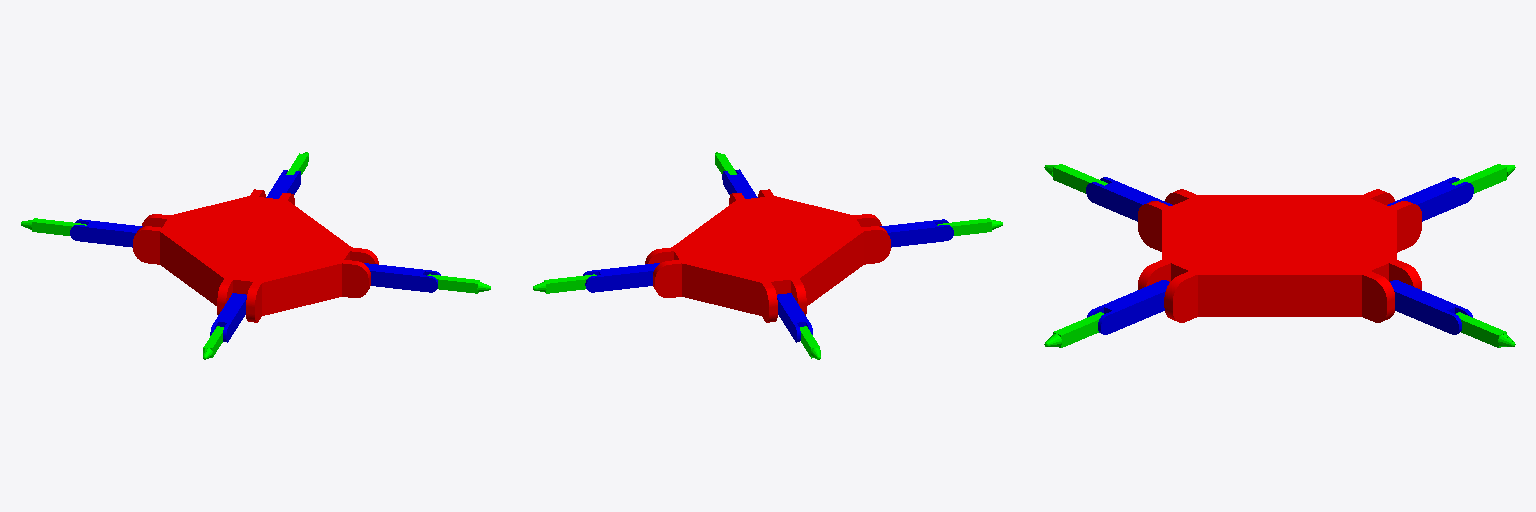
URDF robot description (spider):
<?xml version="1.0"?>

<robot name="spider">

    <link name="base">
        <inertial>
            <origin xyz="0.0 0.0 0.0" rpy="0.0 0.0 0.0"/>
            <mass value="5.0"/>
            <inertia ixx="0.01" ixy="0.0" ixz="0.0" iyy="0.01" iyz="0.0" izz="0.01"/>
        </inertial>

        <visual>
            <origin xyz="0.0 0.0 0.0" rpy="0.0 0.0 0.0"/>
            <geometry>
                <mesh filename="meshes/Base.stl" scale="0.001 0.001 0.001"/>
            </geometry>
            <material name="red">
                <color rgba="1.0 0.0 0.0 1.0"/>
            </material>
        </visual>
        <collision>
            <origin xyz="0.0 0.0 0.0" rpy="0.0 0.0 0.0"/>
            <geometry>
                <mesh filename="meshes/Base.stl" scale="0.001 0.001 0.001"/>
            </geometry>
        </collision>
    </link>


    <!-- THIGH LINKS -->
    <link name="thigh1">
        <inertial>
            <origin xyz="0.0 0.0 0.0" rpy="0.0 0.0 0.0"/>
            <mass value="1.0"/>
            <inertia ixx="0.01" ixy="0.0" ixz="0.0" iyy="0.01" iyz="0.0" izz="0.01"/>
        </inertial>

        <visual>
            <origin xyz="0.0 0.0 0.0" rpy="0.0 0.0 0.0"/>
            <geometry>
                <mesh filename="meshes/Thigh.stl" scale="0.001 0.001 0.001"/>
            </geometry>
            <material name="blue">
                <color rgba="0.0 0.0 1.0 1.0"/>
            </material>
        </visual>
        <collision>
            <origin xyz="0.0 0.0 0.0" rpy="0.0 0.0 0.0"/>
            <geometry>
                <mesh filename="meshes/Thigh.stl" scale="0.001 0.001 0.001"/>
            </geometry>
        </collision>
    </link>
    <link name="thigh2">
        <inertial>
            <origin xyz="0.0 0.0 0.0" rpy="0.0 0.0 0.0"/>
            <mass value="1.0"/>
            <inertia ixx="0.01" ixy="0.0" ixz="0.0" iyy="0.01" iyz="0.0" izz="0.01"/>
        </inertial>

        <visual>
            <origin xyz="0.0 0.0 0.0" rpy="0.0 0.0 0.0"/>
            <geometry>
                <mesh filename="meshes/Thigh.stl" scale="0.001 0.001 0.001"/>
            </geometry>
            <material name="blue">
                <color rgba="0.0 0.0 1.0 1.0"/>
            </material>
        </visual>
        <collision>
            <origin xyz="0.0 0.0 0.0" rpy="0.0 0.0 0.0"/>
            <geometry>
                <mesh filename="meshes/Thigh.stl" scale="0.001 0.001 0.001"/>
            </geometry>
        </collision>
    </link>
    <link name="thigh3">
        <inertial>
            <origin xyz="0.0 0.0 0.0" rpy="0.0 0.0 0.0"/>
            <mass value="1.0"/>
            <inertia ixx="0.01" ixy="0.0" ixz="0.0" iyy="0.01" iyz="0.0" izz="0.01"/>
        </inertial>

        <visual>
            <origin xyz="0.0 0.0 0.0" rpy="0.0 0.0 0.0"/>
            <geometry>
                <mesh filename="meshes/Thigh.stl" scale="0.001 0.001 0.001"/>
            </geometry>
            <material name="blue">
                <color rgba="0.0 0.0 1.0 1.0"/>
            </material>
        </visual>
        <collision>
            <origin xyz="0.0 0.0 0.0" rpy="0.0 0.0 0.0"/>
            <geometry>
                <mesh filename="meshes/Thigh.stl" scale="0.001 0.001 0.001"/>
            </geometry>
        </collision>
    </link>
    <link name="thigh4">
        <inertial>
            <origin xyz="0.0 0.0 0.0" rpy="0.0 0.0 0.0"/>
            <mass value="1.0"/>
            <inertia ixx="0.01" ixy="0.0" ixz="0.0" iyy="0.01" iyz="0.0" izz="0.01"/>
        </inertial>

        <visual>
            <origin xyz="0.0 0.0 0.0" rpy="0.0 0.0 0.0"/>
            <geometry>
                <mesh filename="meshes/Thigh.stl" scale="0.001 0.001 0.001"/>
            </geometry>
            <material name="blue">
                <color rgba="0.0 0.0 1.0 1.0"/>
            </material>
        </visual>
        <collision>
            <origin xyz="0.0 0.0 0.0" rpy="0.0 0.0 0.0"/>
            <geometry>
                <mesh filename="meshes/Thigh.stl" scale="0.001 0.001 0.001"/>
            </geometry>
        </collision>
    </link>
    
    <!-- THIGH JOINTS -->
    <joint name="thigh_joint_1" type="revolute">
        <origin xyz="0.03816  -0.04816  0.01000" rpy="0.0 1.57 -0.785"/>
        <parent link="base"/>
        <child link="thigh1"/>
        <axis xyz="0 1 0"/>
        <limit lower="-1.57" upper="1.57" effort="5.0" velocity="1.0"/>
    </joint>
    <joint name="thigh_joint_2" type="revolute">
        <origin xyz="-0.03816  -0.04816  0.01000" rpy="0.0 -1.57 0.785"/>
        <parent link="base"/>
        <child link="thigh2"/>
        <axis xyz="0 -1 0"/>
        <limit lower="-1.57" upper="1.57" effort="5.0" velocity="1.0"/>
    </joint>
    <joint name="thigh_joint_3" type="revolute">
        <origin xyz="-0.03816  0.04816  0.01000" rpy="0.0 1.57 2.355"/>
        <parent link="base"/>
        <child link="thigh3"/>
        <axis xyz="0 1 0"/>
        <limit lower="-1.57" upper="1.57" effort="5.0" velocity="1.0"/>
    </joint>
    <joint name="thigh_joint_4" type="revolute">
        <origin xyz="0.03816  0.04816  0.01000" rpy="0.0 -1.57 -2.355"/>
        <parent link="base"/>
        <child link="thigh4"/>
        <axis xyz="0 -1 0"/>
        <limit lower="-1.57" upper="1.57" effort="5.0" velocity="1.0"/>
    </joint>

    <!-- SHIN LINKS -->
    <link name="shin1">
        <inertial>
            <origin xyz="0.0 0.0 0.0" rpy="0.0 0.0 0.0"/>
            <mass value="1.0"/>
            <inertia ixx="1" ixy="1" ixz="1" iyy="1" iyz="1" izz="1"/>
        </inertial>

        <visual>
            <origin xyz="0.0 0.0 0.0" rpy="0.0 0.0 0.0"/>
            <geometry>
                <mesh filename="meshes/Shin.stl" scale="0.001 0.001 0.001"/>
            </geometry>
            <material name="green">
                <color rgba="0.0 1.0 0.0 1.0"/>
            </material>
        </visual>
        <collision>
            <origin xyz="0.0 0.0 0.0" rpy="0.0 0.0 0.0"/>
            <geometry>
                <mesh filename="meshes/Shin.stl" scale="0.001 0.001 0.001"/>
            </geometry>
        </collision>
    </link>
    <link name="shin2">
        <inertial>
            <origin xyz="0.0 0.0 0.0" rpy="0.0 0.0 0.0"/>
            <mass value="1.0"/>
            <inertia ixx="1" ixy="1" ixz="1" iyy="1" iyz="1" izz="1"/>
        </inertial>

        <visual>
            <origin xyz="0.0 0.0 0.0" rpy="0.0 0.0 0.0"/>
            <geometry>
                <mesh filename="meshes/Shin.stl" scale="0.001 0.001 0.001"/>
            </geometry>
            <material name="green">
                <color rgba="0.0 1.0 0.0 1.0"/>
            </material>
        </visual>
        <collision>
            <origin xyz="0.0 0.0 0.0" rpy="0.0 0.0 0.0"/>
            <geometry>
                <mesh filename="meshes/Shin.stl" scale="0.001 0.001 0.001"/>
            </geometry>
        </collision>
    </link>
    <link name="shin3">
        <inertial>
            <origin xyz="0.0 0.0 0.0" rpy="0.0 0.0 0.0"/>
            <mass value="1.0"/>
            <inertia ixx="1" ixy="1" ixz="1" iyy="1" iyz="1" izz="1"/>
        </inertial>

        <visual>
            <origin xyz="0.0 0.0 0.0" rpy="0.0 0.0 0.0"/>
            <geometry>
                <mesh filename="meshes/Shin.stl" scale="0.001 0.001 0.001"/>
            </geometry>
            <material name="green">
                <color rgba="0.0 1.0 0.0 1.0"/>
            </material>
        </visual>
        <collision>
            <origin xyz="0.0 0.0 0.0" rpy="0.0 0.0 0.0"/>
            <geometry>
                <mesh filename="meshes/Shin.stl" scale="0.001 0.001 0.001"/>
            </geometry>
        </collision>
    </link>
    <link name="shin4">
        <inertial>
            <origin xyz="0.0 0.0 0.0" rpy="0.0 0.0 0.0"/>
            <mass value="1.0"/>
            <inertia ixx="1" ixy="1" ixz="1" iyy="1" iyz="1" izz="1"/>
        </inertial>

        <visual>
            <origin xyz="0.0 0.0 0.0" rpy="0.0 0.0 0.0"/>
            <geometry>
                <mesh filename="meshes/Shin.stl" scale="0.001 0.001 0.001"/>
            </geometry>
            <material name="green">
                <color rgba="0.0 1.0 0.0 1.0"/>
            </material>
        </visual>
        <collision>
            <origin xyz="0.0 0.0 0.0" rpy="0.0 0.0 0.0"/>
            <geometry>
                <mesh filename="meshes/Shin.stl" scale="0.001 0.001 0.001"/>
            </geometry>
        </collision>
    </link>

    <!-- SHIN JOINTS -->
    
    <joint name="shin_joint_1" type="revolute">
        <origin xyz="0.0  0.0  0.04" rpy="0.0 0.0 0.0"/>
        <parent link="thigh1"/>
        <child link="shin1"/>
        <axis xyz="0 1 0"/>
        <limit lower="0.0" upper="3.14" effort="5.0" velocity="1.0"/>
    </joint>
    <joint name="shin_joint_2" type="revolute">
        <origin xyz="0.0  0.0  0.04" rpy="0.0 0.0 0.0"/>
        <parent link="thigh2"/>
        <child link="shin2"/>
        <axis xyz="0 -1 0"/>
        <limit lower="0.0" upper="3.14" effort="5.0" velocity="1.0"/>
    </joint>
    <joint name="shin_joint_3" type="revolute">
        <origin xyz="0.0  0.0  0.04" rpy="0.0 0.0 0.0"/>
        <parent link="thigh3"/>
        <child link="shin3"/>
        <axis xyz="0 1 0"/>
        <limit lower="0.0" upper="3.14" effort="5.0" velocity="1.0"/>
    </joint>
    <joint name="shin_joint_4" type="revolute">
        <origin xyz="0.0  0.0  0.04" rpy="0.0 0.0 0.0"/>
        <parent link="thigh4"/>
        <child link="shin4"/>
        <axis xyz="0 -1 0"/>
        <limit lower="0.0" upper="3.14" effort="5.0" velocity="1.0"/>
    </joint>



</robot>

--- What the picture shows (computed from the rendered views, not written in the file) ---
Views: 3 orthographic renders of the robot side by side, from view 1: azimuth 30°, elevation 25°; view 2: azimuth 150°, elevation 25°; view 3: azimuth 270°, elevation 25°.
Robot: spider — 9 links, 8 joints (8 revolute); root link base; default pose: all joints at 0.
Links seen in each view (by area): view 1: base, thigh1, thigh3, thigh2, shin1, shin3, thigh4; view 2: base, thigh4, thigh2, thigh3, shin4, shin2, thigh1; view 3: base, thigh4, thigh1, thigh3, thigh2, shin4, shin1, shin3, shin2.
Link boxes in pixels (left/top/right/bottom): base: left=133, top=189, right=378, bottom=322; thigh1: left=364, top=263, right=440, bottom=292; thigh3: left=70, top=219, right=142, bottom=247; thigh2: left=210, top=293, right=246, bottom=342; shin1: left=427, top=274, right=490, bottom=293; shin3: left=21, top=218, right=86, bottom=235; thigh4: left=266, top=170, right=300, bottom=198; base: left=645, top=189, right=890, bottom=322; thigh4: left=583, top=263, right=659, bottom=292; thigh2: left=880, top=219, right=953, bottom=247; thigh3: left=777, top=293, right=812, bottom=342; shin4: left=533, top=274, right=596, bottom=293; shin2: left=937, top=218, right=1002, bottom=235; thigh1: left=722, top=169, right=757, bottom=198; base: left=1138, top=189, right=1421, bottom=322; thigh4: left=1390, top=280, right=1472, bottom=334; thigh1: left=1087, top=280, right=1169, bottom=334; thigh3: left=1387, top=177, right=1473, bottom=221; thigh2: left=1086, top=177, right=1172, bottom=221; shin4: left=1456, top=312, right=1515, bottom=347; shin1: left=1044, top=312, right=1103, bottom=347; shin3: left=1452, top=164, right=1515, bottom=193; shin2: left=1044, top=164, right=1107, bottom=193.
Bounding box of the posed robot: 0.1805 × 0.2005 × 0.02 m (x, y, z).
Meshes: 3 distinct files referenced, 9 mesh visuals loaded (3 binary STL).
